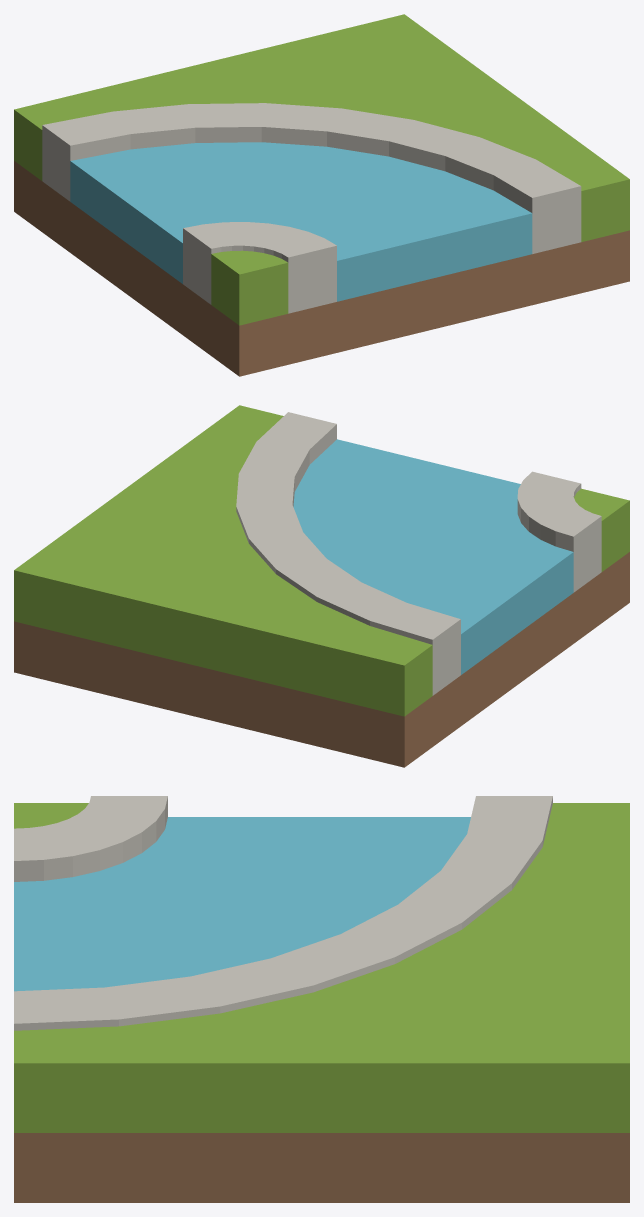
File: canal-corner-low.obj
3 renders of one model, top to bottom at view 1: azimuth 30°, elevation 25°; view 2: azimuth 150°, elevation 25°; view 3: azimuth 270°, elevation 25°, orthographic. The views are drawn at different scales.
Visible parts, largest first — view 1: canal-corner-low_Cube.246; view 2: canal-corner-low_Cube.246; view 3: canal-corner-low_Cube.246.
Part boxes in pixels (bbox=[...]): canal-corner-low_Cube.246: bbox=[14, 14, 629, 376]; canal-corner-low_Cube.246: bbox=[14, 405, 629, 767]; canal-corner-low_Cube.246: bbox=[14, 796, 629, 1202].
Bounding box in the file's own units: 8 × 2.1 × 8.
Materials: 1 (1 with a texture image).
